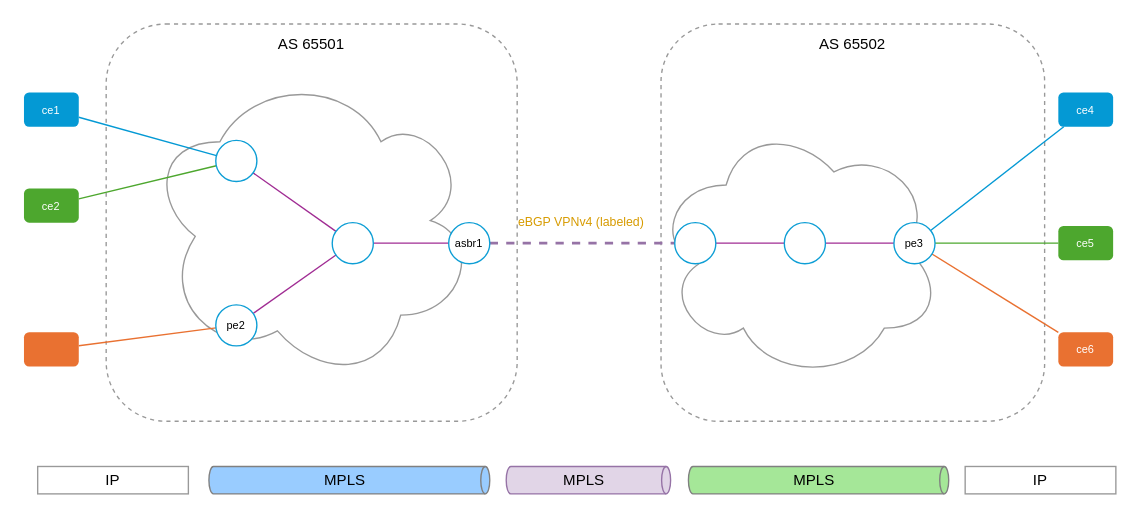
This 1140x518 diagram has some shape labels left out. The box of each missing label's shape, as (x1, y1, x2, y2) in pixels:
asbr2: (673, 221, 716, 264)
ce3: (23, 332, 78, 366)
p1: (331, 221, 373, 264)
p2: (783, 221, 825, 264)
pe1: (214, 139, 257, 182)
